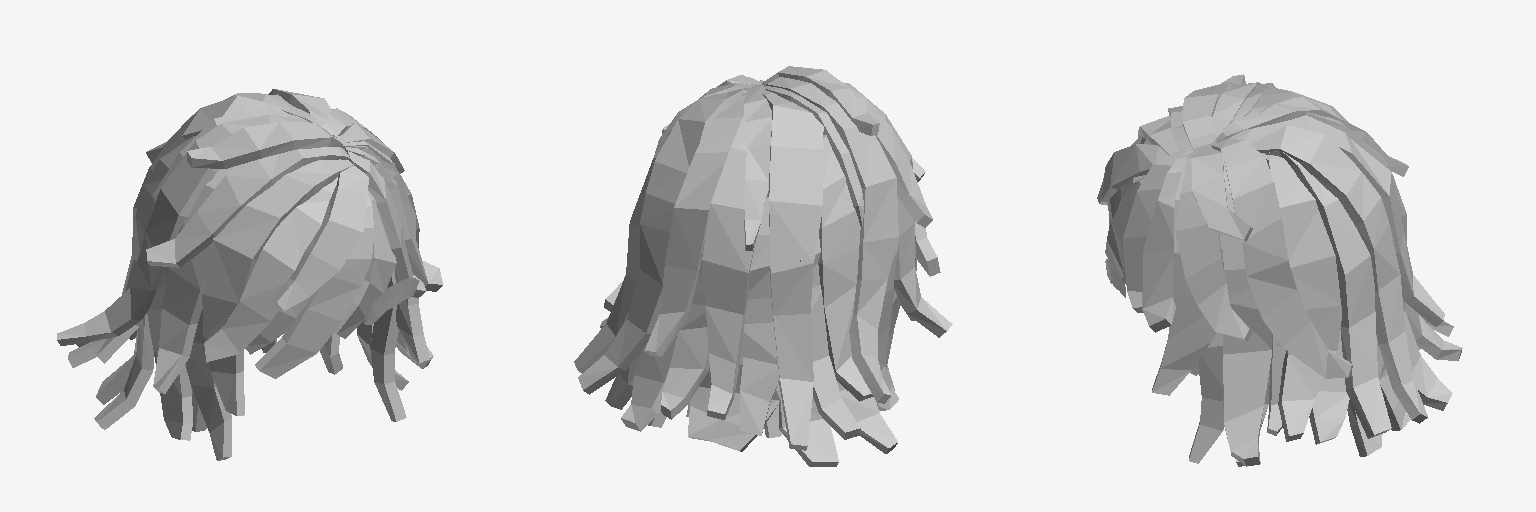
File: hair.obj
3 renders of one model, left to right at view 1: azimuth 30°, elevation 25°; view 2: azimuth 150°, elevation 25°; view 3: azimuth 270°, elevation 25°, orthographic.
Visible parts, largest first — view 1: head:Mesh polySurface10, head:Mesh polySurface22, head:Mesh polySurface9, head:Mesh polySurface17, head:Mesh polySurface6, head:Mesh polySurface8, head:Mesh polySurface12, head:Mesh polySurface14, head:Mesh polySurface21, head:Mesh polySurface13, head:Mesh polySurface35, head:Mesh polySurface5 (+15 smaller); view 2: head:Mesh polySurface20, head:Mesh polySurface22, head:Mesh polySurface29, head:Mesh polySurface19, head:Mesh polySurface18, head:Mesh polySurface23, head:Mesh polySurface13, polySurface32 head:Mesh, head:Mesh polySurface31, head:Mesh polySurface25, head:Mesh polySurface24, head:Mesh polySurface21 (+7 smaller); view 3: head:Mesh polySurface29, head:Mesh polySurface30, head:Mesh polySurface27, head:Mesh polySurface28, head:Mesh polySurface26, head:Mesh polySurface45, head:Mesh polySurface13, head:Mesh polySurface18, head:Mesh polySurface11, head:Mesh polySurface15, head:Mesh polySurface4, head:Mesh polySurface16 (+13 smaller).
Part boxes in pixels (x1,y1,x2,y2): head:Mesh polySurface10: (202, 159, 353, 415); head:Mesh polySurface22: (57, 115, 309, 345); head:Mesh polySurface9: (204, 177, 337, 362); head:Mesh polySurface17: (146, 147, 349, 267); head:Mesh polySurface6: (255, 196, 373, 378); head:Mesh polySurface8: (271, 160, 368, 310); head:Mesh polySurface12: (153, 166, 236, 393); head:Mesh polySurface14: (187, 122, 344, 168); head:Mesh polySurface21: (147, 109, 301, 440); head:Mesh polySurface13: (94, 313, 153, 429); head:Mesh polySurface35: (185, 309, 231, 460); head:Mesh polySurface5: (334, 191, 396, 338); head:Mesh polySurface20: (761, 90, 823, 450); head:Mesh polySurface22: (765, 77, 898, 403); head:Mesh polySurface29: (578, 88, 747, 394); head:Mesh polySurface19: (702, 116, 768, 419); head:Mesh polySurface18: (644, 93, 745, 356); head:Mesh polySurface23: (818, 135, 873, 401); head:Mesh polySurface13: (605, 352, 897, 466); polySurface32 head:Mesh: (740, 197, 779, 435); head:Mesh polySurface31: (661, 241, 709, 419); head:Mesh polySurface25: (744, 84, 771, 250); head:Mesh polySurface24: (800, 235, 860, 439); head:Mesh polySurface21: (764, 86, 898, 410); head:Mesh polySurface29: (1230, 125, 1427, 423); head:Mesh polySurface30: (1209, 138, 1352, 378); head:Mesh polySurface27: (1266, 155, 1341, 441); head:Mesh polySurface28: (1211, 138, 1391, 438); head:Mesh polySurface26: (1223, 153, 1271, 466); head:Mesh polySurface45: (1175, 144, 1252, 342); head:Mesh polySurface13: (1267, 330, 1410, 456); head:Mesh polySurface18: (1253, 115, 1444, 326); head:Mesh polySurface11: (1142, 150, 1193, 332); head:Mesh polySurface15: (1152, 148, 1222, 395); head:Mesh polySurface4: (1123, 151, 1186, 312); head:Mesh polySurface16: (1191, 147, 1252, 241).
Size of the model in its own units: 0.3102 by 0.2912 by 0.3044.